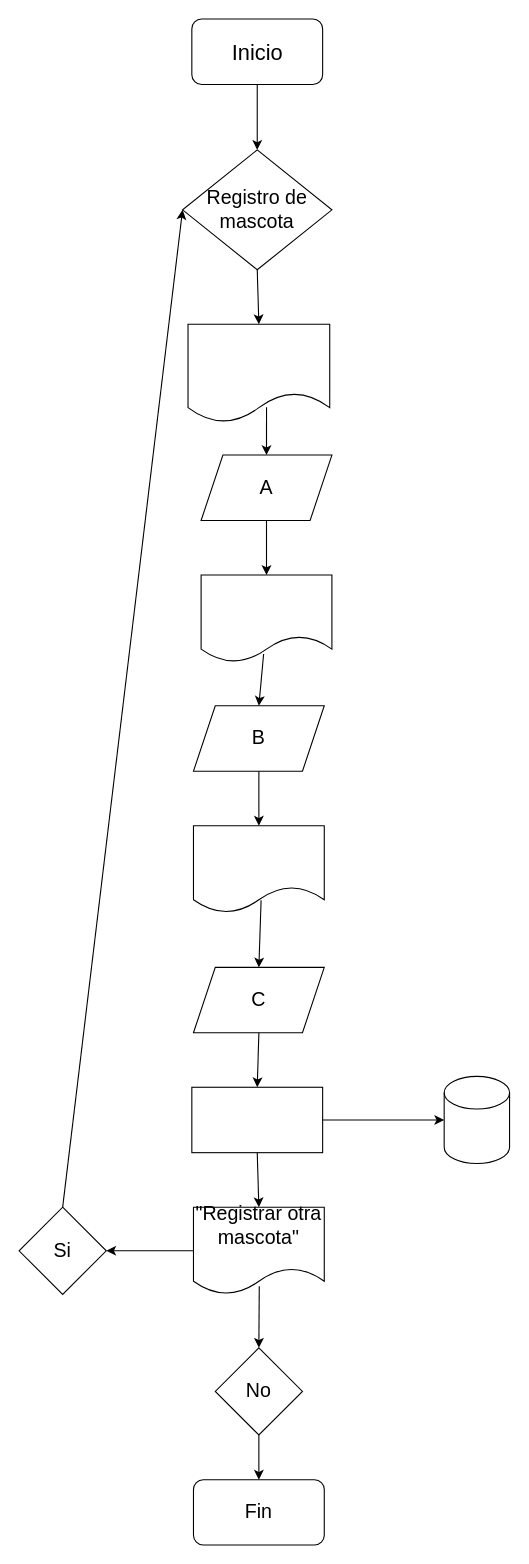
This 529x1564 diagram has some shape labels left out. Here are the shapes that lost their labels. From the top down, the centre of each, then its label:
point 258,372: "Ingrese nombre de mascota
point 266,618: "Ingrese tipo de mascota"
point 258,869: "Ingrese las vacunas dadas"
point 257,1119: Registrar
